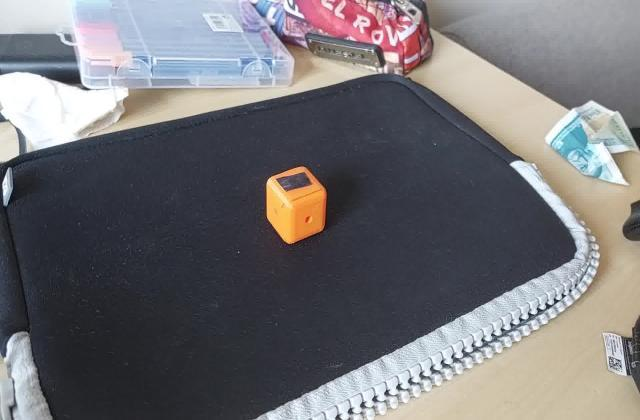black: (274, 172, 314, 196)
cube: (261, 164, 327, 246)
